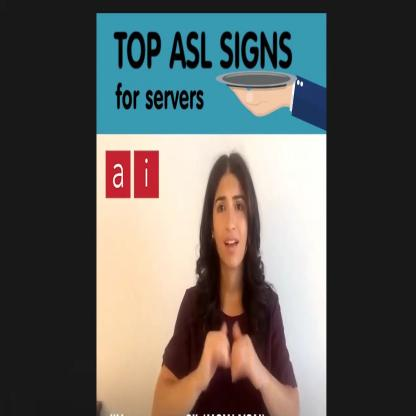HowAreYou: (193, 307, 260, 399)
